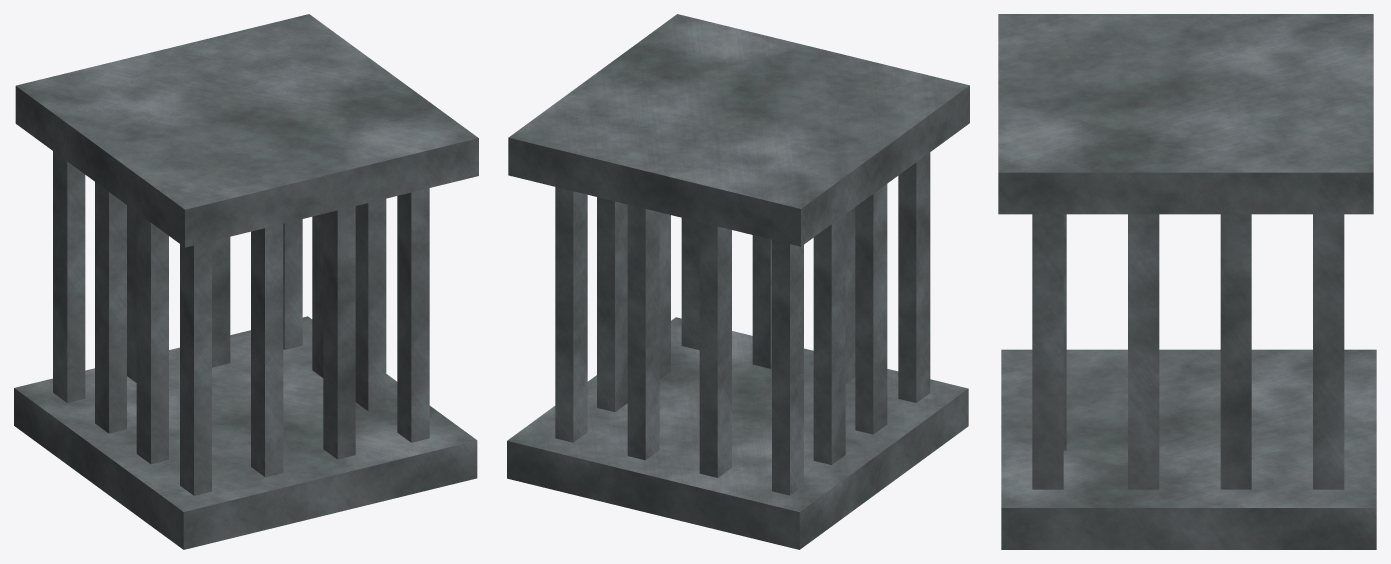
File: cage.fbx
The picture shows the model from 3 angles, left to right: view 1: azimuth 30°, elevation 25°; view 2: azimuth 150°, elevation 25°; view 3: azimuth 270°, elevation 25°; orthographic projection. The views are drawn at different scales.
Parts seen in each view (by area): view 1: block (×2), block_quarter (×12); view 2: block (×2), block_quarter (×12); view 3: block (×2), block_quarter (×5).
Boxes of the visible parts, x1,y1,x2,y2 form: block (×2): (14,14,478,549); block_quarter (×12): (53,151,429,495); block (×2): (507,14,969,549); block_quarter (×12): (555,152,930,495); block (×2): (998,14,1376,549); block_quarter (×5): (1032,214,1344,489).
Size of the model in its own units: 8.11 by 9 by 8.17.
2 materials, 2 textured.
